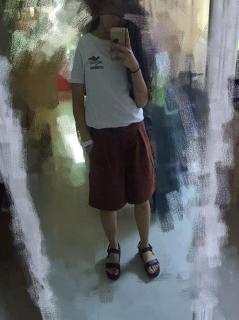short sleeve top: (69, 33, 145, 129)
shorts: (87, 118, 156, 211)
